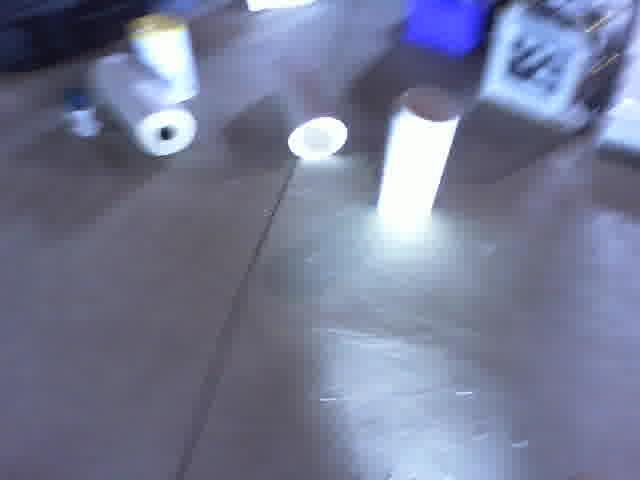coral: (372, 81, 464, 242), (271, 50, 350, 161)
